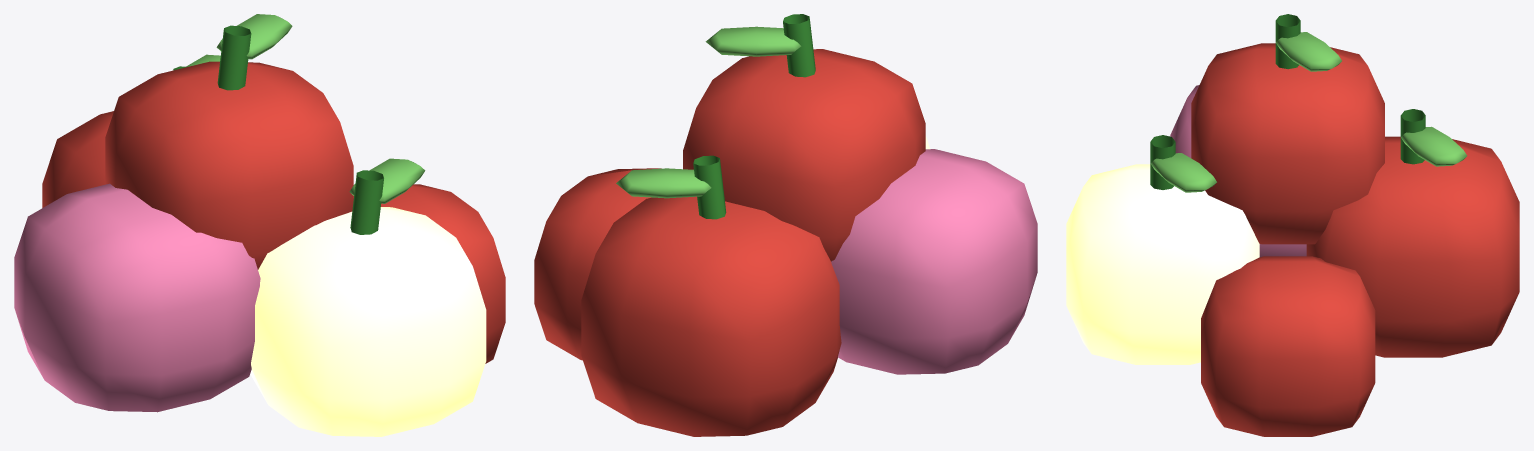
File: harvester-fruit.fit.glb
3 renders of one model, left to right at view 1: azimuth 30°, elevation 25°; view 2: azimuth 150°, elevation 25°; view 3: azimuth 270°, elevation 25°, orthographic. The views are drawn at different scales.
Visible parts, largest first — view 1: harvester-fruit; view 2: harvester-fruit; view 3: harvester-fruit.
Boxes of the visible parts, <box> form: harvester-fruit: <box>14,14,505,436</box>; harvester-fruit: <box>534,14,1037,436</box>; harvester-fruit: <box>1066,14,1519,436</box>.
Size of the model in its own units: 0.2182 by 0.1762 by 0.2175.
